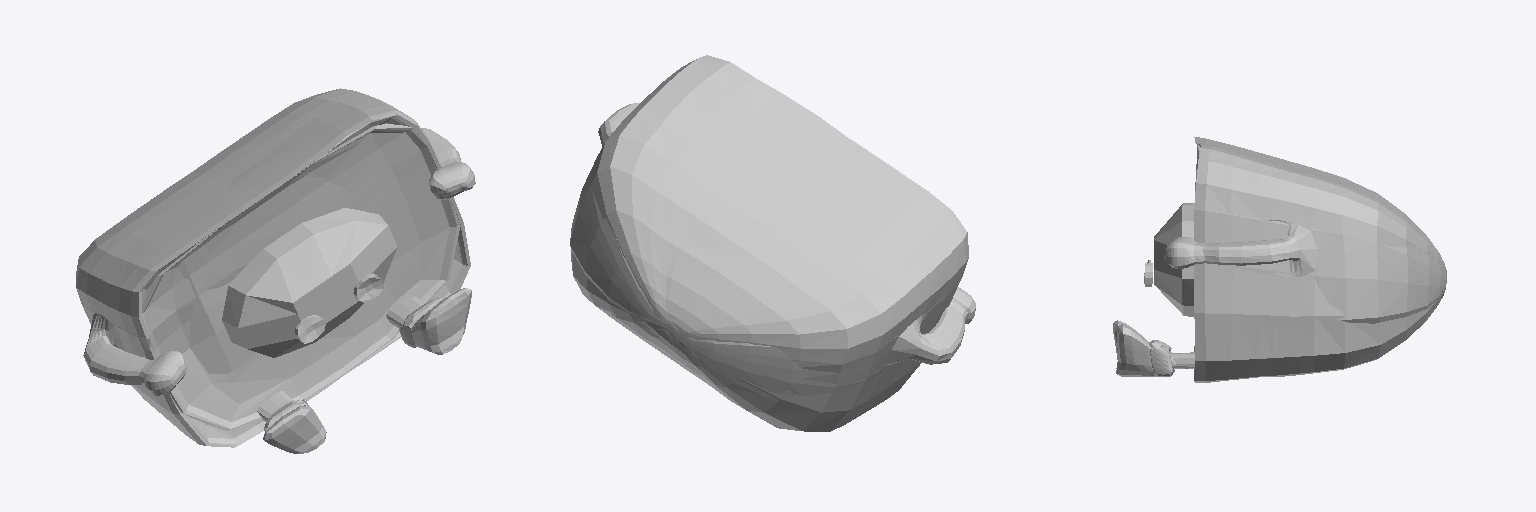
The model's file is Pal_000026.obj.
3 renders of one model, left to right at view 1: azimuth 30°, elevation 25°; view 2: azimuth 150°, elevation 25°; view 3: azimuth 270°, elevation 25°, orthographic.
Parts seen in each view (by area): view 1: Cuerpo_de_aguacate_3.001_Cube.002, Hueso_Cubo.003, Ojos_Cubo.002; view 2: Cuerpo_de_aguacate_3.001_Cube.002; view 3: Cuerpo_de_aguacate_3.001_Cube.002, Hueso_Cubo.003.
Part boxes in pixels (bbox=[...]): Cuerpo_de_aguacate_3.001_Cube.002: bbox=[76, 88, 475, 453]; Hueso_Cubo.003: bbox=[222, 208, 397, 357]; Ojos_Cubo.002: bbox=[295, 273, 383, 343]; Cuerpo_de_aguacate_3.001_Cube.002: bbox=[570, 55, 975, 431]; Cuerpo_de_aguacate_3.001_Cube.002: bbox=[1113, 137, 1446, 382]; Hueso_Cubo.003: bbox=[1154, 203, 1194, 316].
Size of the model in its own units: 1.22 by 0.9755 by 1.01.